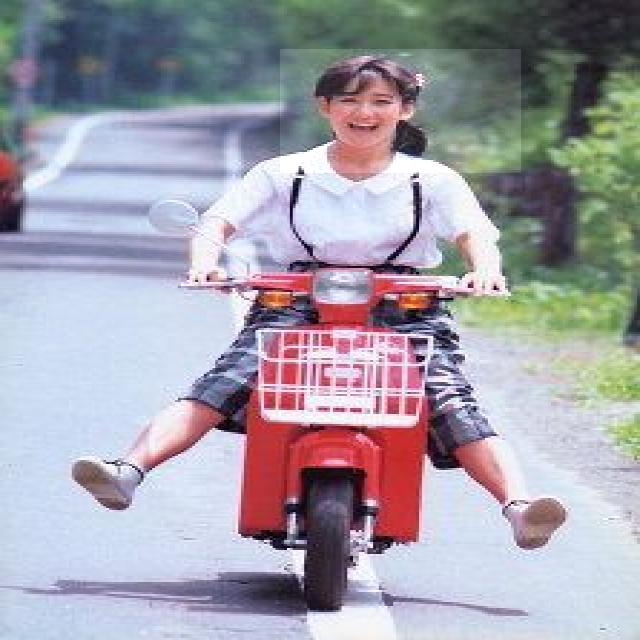No_Helmet: (280, 49, 521, 173)
